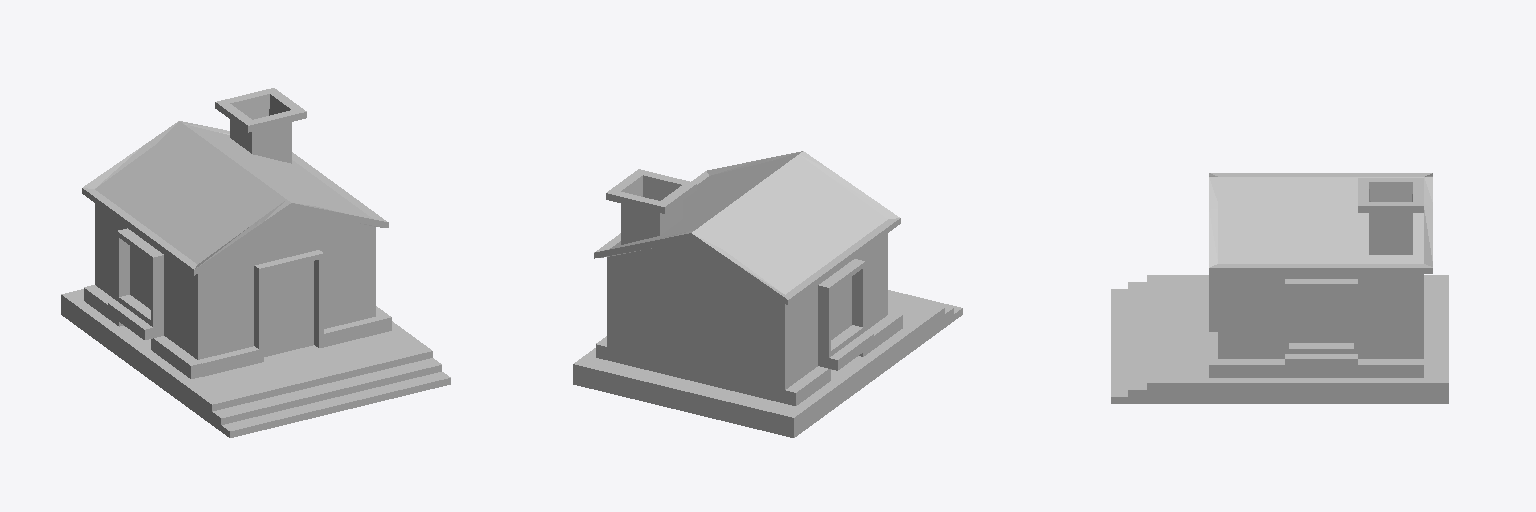
File: CASA_LUMOSITY.obj
3 views of the same model, side by side, from view 1: azimuth 30°, elevation 25°; view 2: azimuth 150°, elevation 25°; view 3: azimuth 270°, elevation 25° (orthographic).
Parts seen in each view (by area): view 1: Cube; view 2: Cube; view 3: Cube.
Part boxes in pixels (left/top/right/bottom): Cube: left=61, top=88, right=450, bottom=437; Cube: left=573, top=151, right=962, bottom=437; Cube: left=1111, top=173, right=1448, bottom=403.
Size of the model in its own units: 3.01 by 2.44 by 3.99.